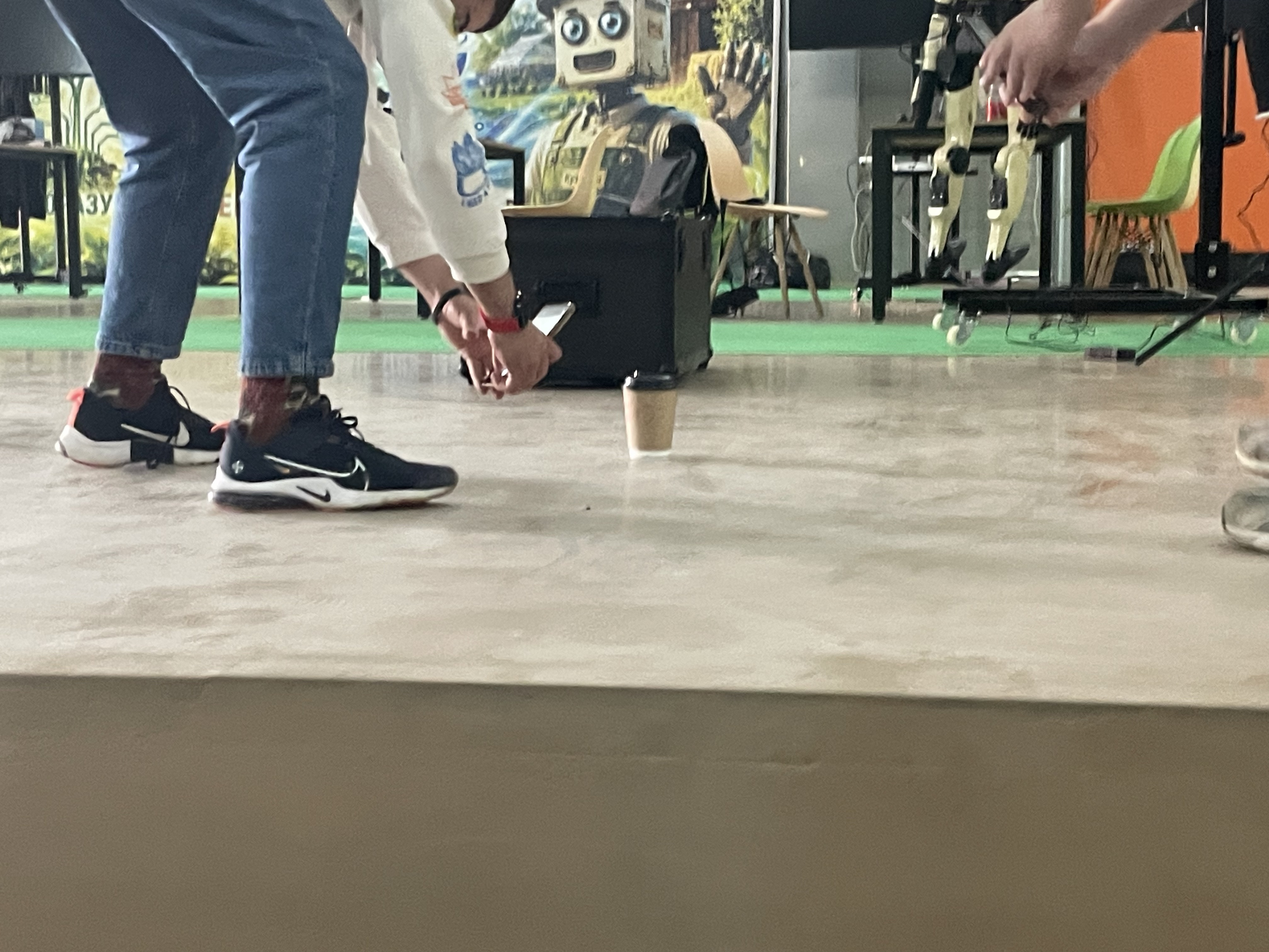cup: (621, 369, 679, 460)
